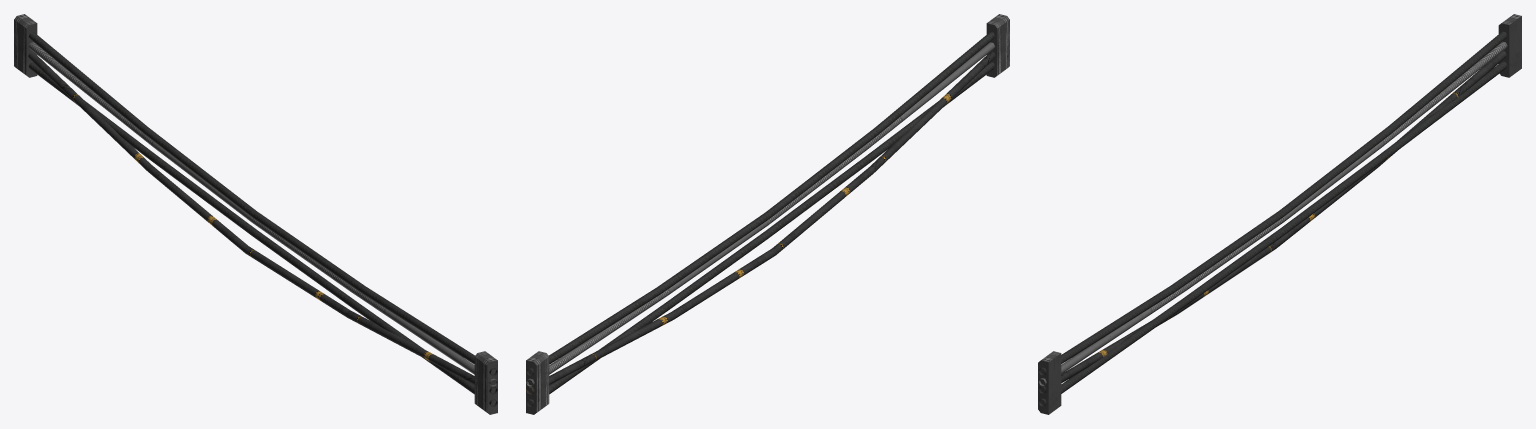
File: CP_Wires_A_4m_02.fbx
3 renders of one model, left to right at view 1: azimuth 30°, elevation 25°; view 2: azimuth 150°, elevation 25°; view 3: azimuth 330°, elevation 25°, orthographic.
Parts seen in each view (by area): view 1: CP_Wires_A_4m_01_LOD0; view 2: CP_Wires_A_4m_01_LOD0; view 3: CP_Wires_A_4m_01_LOD0.
Part boxes in pixels (<box>): CP_Wires_A_4m_01_LOD0: <box>14,14,497,414</box>; CP_Wires_A_4m_01_LOD0: <box>526,14,1009,414</box>; CP_Wires_A_4m_01_LOD0: <box>1038,14,1521,414</box>.
Size of what is drawn, in the model's own units: 7.87 by 29.57 by 400.
